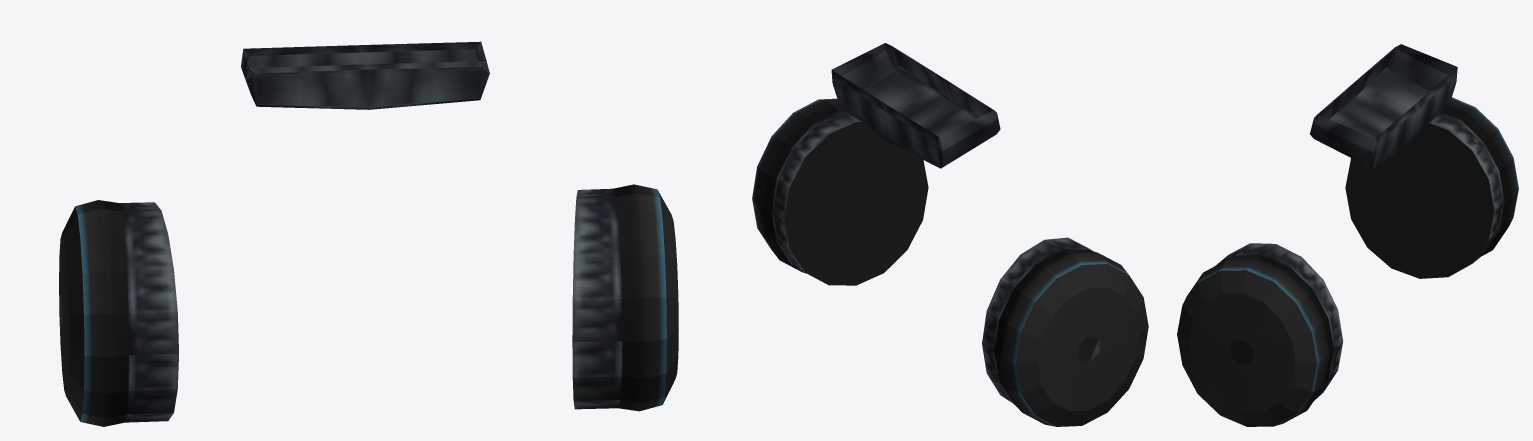
File: HEADPHONES1.fbx
The picture shows the model from 3 angles, left to right: view 1: azimuth 30°, elevation 25°; view 2: azimuth 150°, elevation 25°; view 3: azimuth 270°, elevation 25°; orthographic projection. The views are drawn at different scales.
Parts seen in each view (by area): view 1: HEADPHONES1; view 2: HEADPHONES1; view 3: HEADPHONES1.
Boxes of the visible parts, left/top/right/bottom form: HEADPHONES1: left=59, top=41, right=678, bottom=426; HEADPHONES1: left=752, top=43, right=1148, bottom=426; HEADPHONES1: left=1177, top=44, right=1518, bottom=426.
Size of the model in its own units: 34.92 by 20.94 by 22.46.
